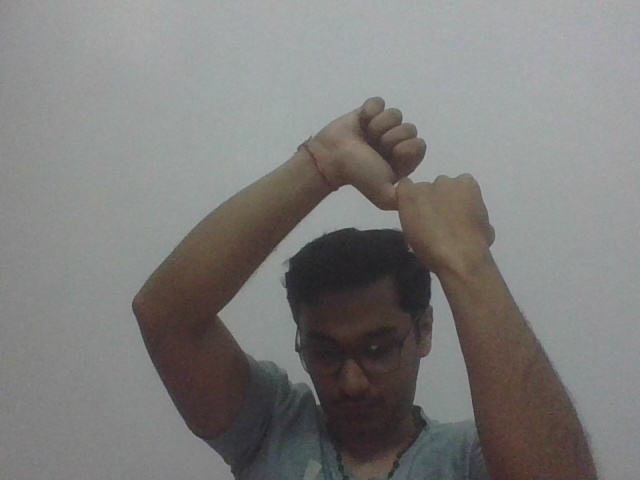S: (348, 100, 513, 254)
